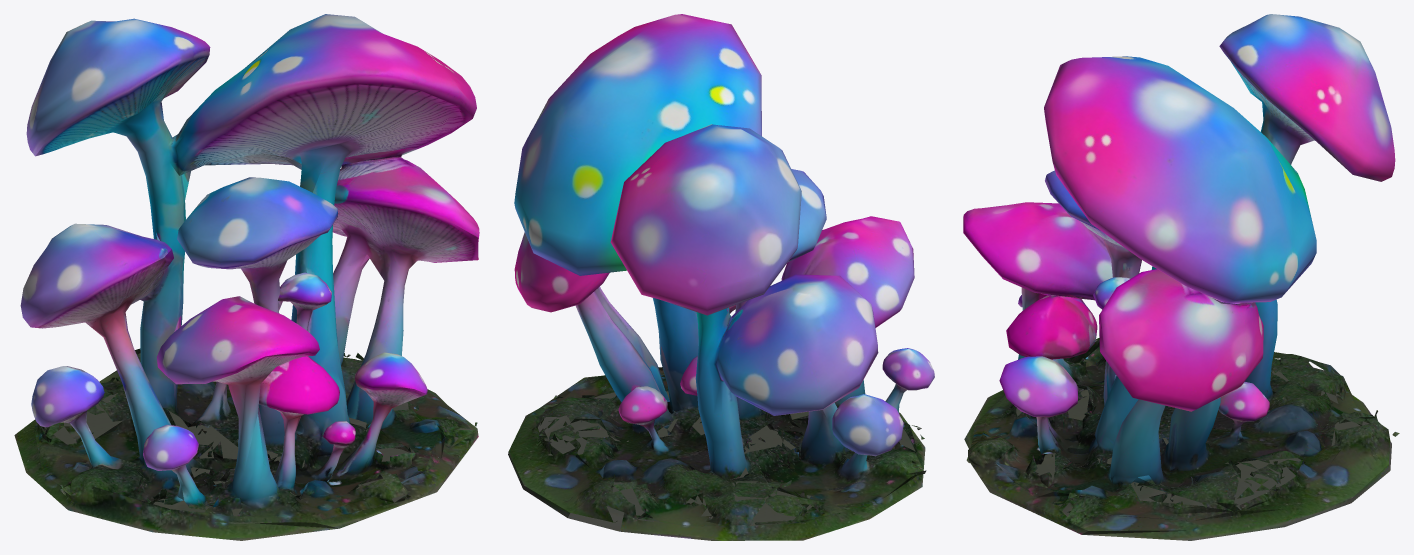
The model's file is Neon Glowing Shrooms - LOW (1).glb.
3 views of the same model, side by side, from view 1: azimuth 30°, elevation 25°; view 2: azimuth 150°, elevation 25°; view 3: azimuth 270°, elevation 25° (orthographic). The views are drawn at different scales.
Parts seen in each view (by area): view 1: Mesh0; view 2: Mesh0; view 3: Mesh0.
Boxes of the visible parts, x1,y1,x2,y2 form: Mesh0: (14, 14, 479, 540); Mesh0: (508, 14, 934, 540); Mesh0: (963, 14, 1399, 540).
Size of the model in its own units: 1.99 by 1.9 by 1.83.
Materials: 1 (1 with a texture image).
